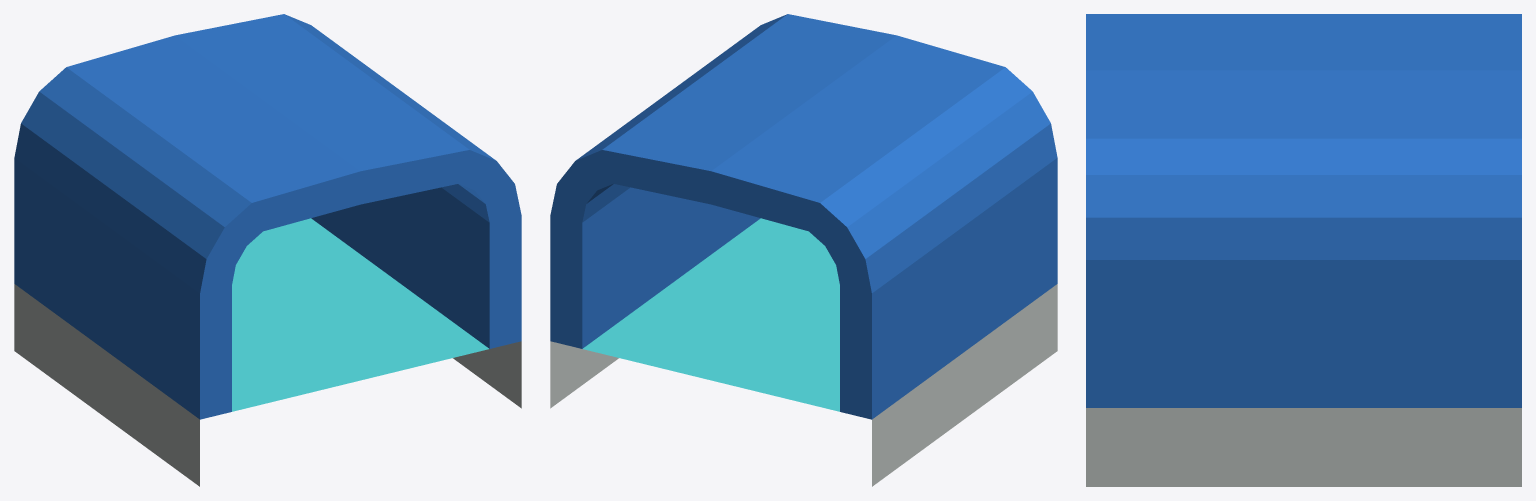
The model's file is Water_Ride_D.fbx.
3 views of the same model, side by side, from view 1: azimuth 30°, elevation 25°; view 2: azimuth 150°, elevation 25°; view 3: azimuth 270°, elevation 25° (orthographic). The views are drawn at different scales.
Visible parts, largest first — view 1: Water_Ride_D; view 2: Water_Ride_D; view 3: Water_Ride_D.
Part boxes in pixels (bbox=[...]): Water_Ride_D: bbox=[14, 14, 521, 486]; Water_Ride_D: bbox=[550, 14, 1057, 486]; Water_Ride_D: bbox=[1086, 14, 1521, 486].
Size of the model in its own units: 400 by 329 by 400.
